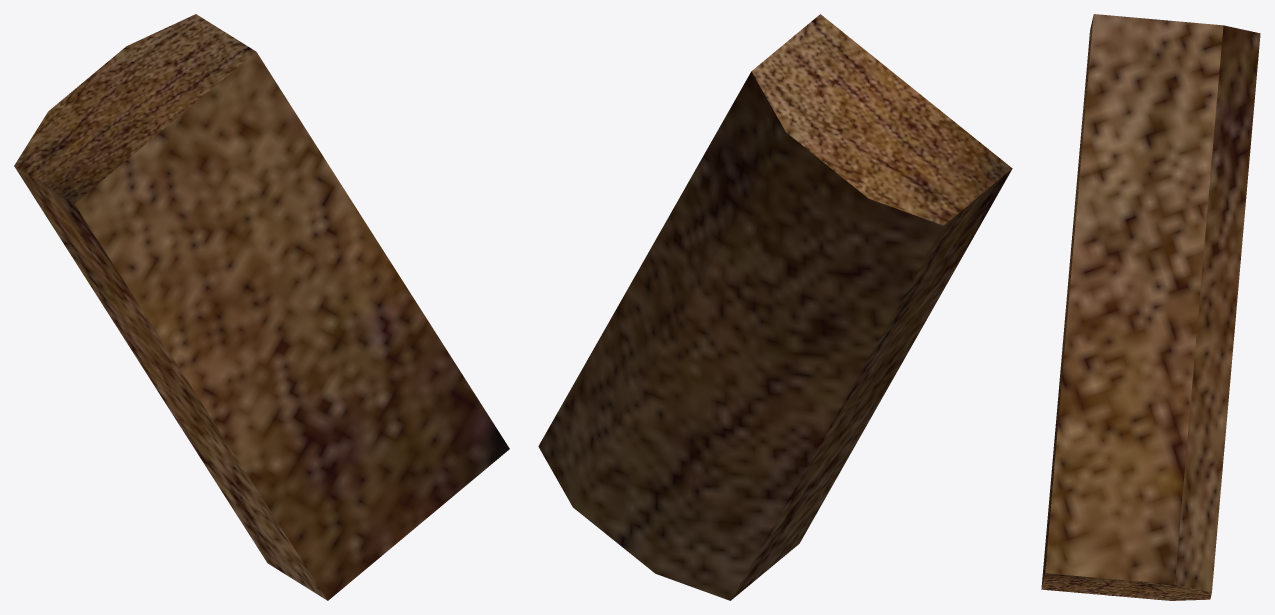
File: DREWIENKO1.glb
The picture shows the model from 3 angles, left to right: view 1: azimuth 30°, elevation 25°; view 2: azimuth 150°, elevation 25°; view 3: azimuth 270°, elevation 25°; orthographic projection. The views are drawn at different scales.
Visible parts, largest first — view 1: DREWIENKO1; view 2: DREWIENKO1; view 3: DREWIENKO1.
Boxes of the visible parts, x1,y1,x2,y2 form: DREWIENKO1: (14,14,509,600); DREWIENKO1: (538,14,1012,600); DREWIENKO1: (1041,14,1260,600).
Size of the model in its own units: 0.332 by 0.4197 by 0.1481.
1 material, 1 textured.
